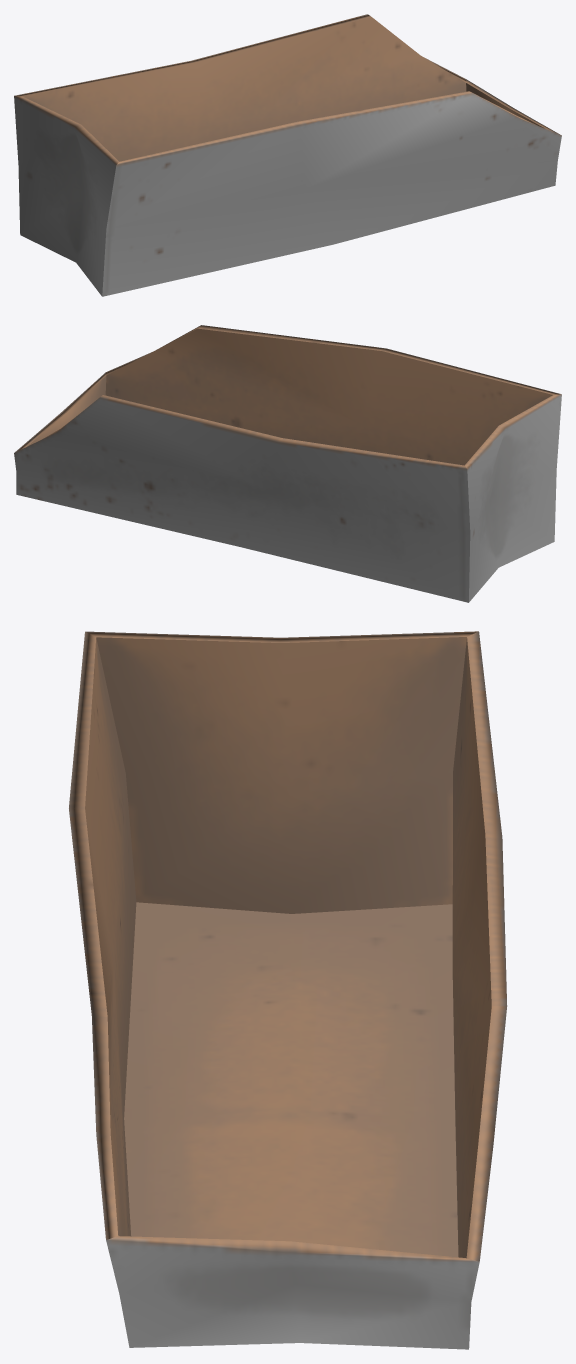
File: SM_CartonDrawer_05.FBX
The picture shows the model from 3 angles, top to bottom: view 1: azimuth 30°, elevation 25°; view 2: azimuth 150°, elevation 25°; view 3: azimuth 270°, elevation 25°; orthographic projection. The views are drawn at different scales.
Parts seen in each view (by area): view 1: SM_CartonDrawer_05; view 2: SM_CartonDrawer_05; view 3: SM_CartonDrawer_05.
Boxes of the visible parts, <box> form: SM_CartonDrawer_05: <box>14,14,561,296</box>; SM_CartonDrawer_05: <box>14,325,561,602</box>; SM_CartonDrawer_05: <box>69,631,507,1349</box>.
Bounding box in the file's own units: 48.14 × 20.09 × 14.25.
